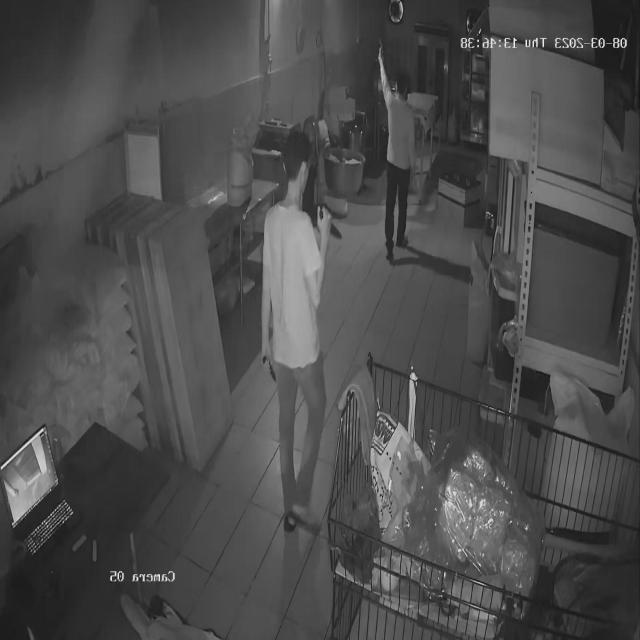Gun: (365, 20, 393, 61)
Knife: (317, 199, 354, 244)
